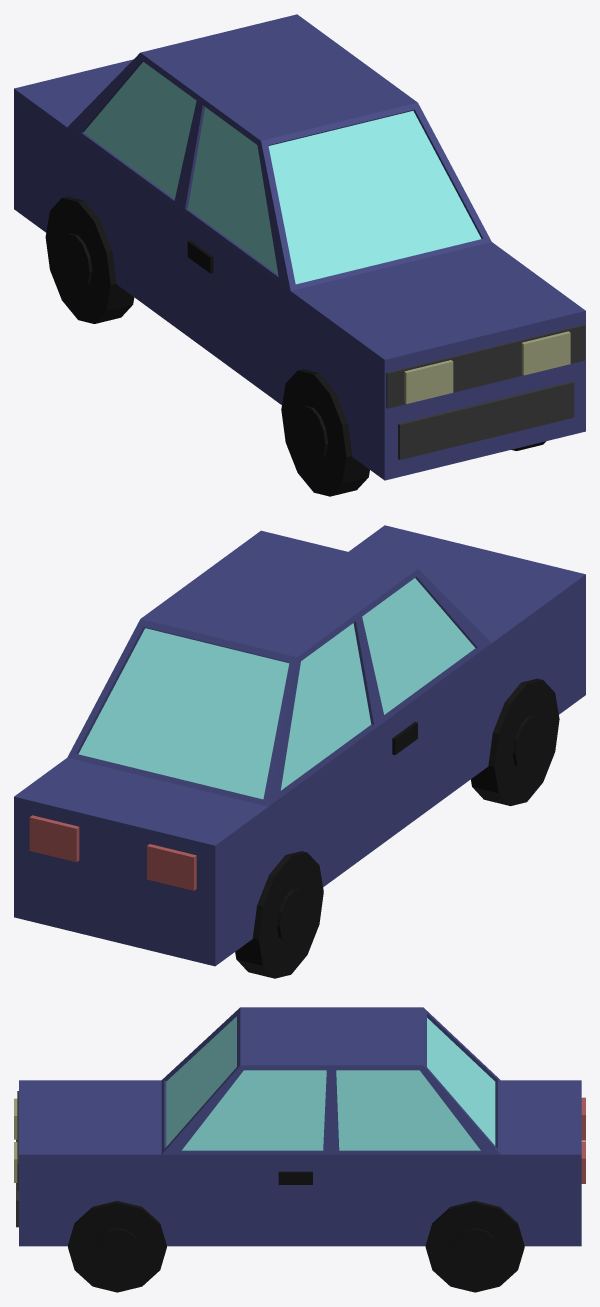
The model's file is Car.fbx.
3 views of the same model, one above another, from view 1: azimuth 30°, elevation 25°; view 2: azimuth 150°, elevation 25°; view 3: azimuth 270°, elevation 25° (orthographic). The views are drawn at different scales.
Parts seen in each view (by area): view 1: Body, Grill2, Wheel, Wheel1, Grill, Headlight, Headlight1, pCylinder3, pCylinder2; view 2: Body, Wheel1, Wheel, TailLight, TailLight2, pCylinder3, pCylinder2; view 3: Body, Wheel1, Wheel, pCylinder3, pCylinder2, pCube8.
Boxes of the visible parts, x1,y1,x2,y2 form: Body: (14,14,585,480); Grill2: (398,381,574,459); Wheel: (281,369,545,496); Wheel1: (45,196,134,323); Grill: (386,324,585,408); Headlight: (521,331,570,375); Headlight1: (404,360,453,403); pCylinder3: (61,233,92,289); pCylinder2: (296,406,327,461); Body: (14,525,585,966); Wheel1: (235,851,323,978); Wheel: (471,678,559,806); TailLight: (29,815,79,862); TailLight2: (147,844,196,890); pCylinder3: (277,888,308,943); pCylinder2: (512,715,543,771); Body: (19,1007,581,1246); Wheel1: (425,1201,524,1292); Wheel: (68,1201,166,1292); pCylinder3: (453,1228,496,1268); pCylinder2: (95,1228,138,1268); pCube8: (278,1171,312,1184).
Bounding box in the file's own units: 124 × 155 × 371.
